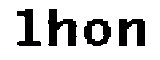1: (14, 6, 44, 50)
h: (47, 6, 79, 54)
n: (117, 15, 150, 51)
o: (83, 16, 112, 49)
